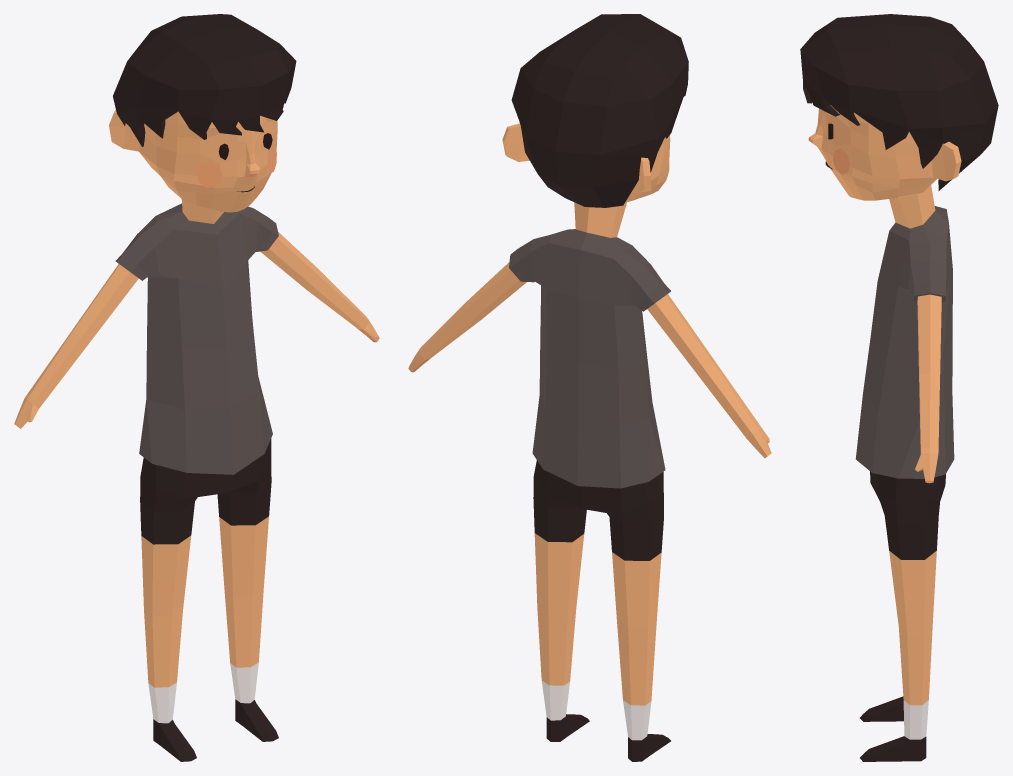
File: low_poly_little_boy.glb
The picture shows the model from 3 angles, left to right: view 1: azimuth 30°, elevation 25°; view 2: azimuth 150°, elevation 25°; view 3: azimuth 270°, elevation 25°; orthographic projection.
Visible parts, largest first — view 1: Cylinder, Cube.001, Circle; view 2: Cylinder, Cube.001; view 3: Cylinder, Cube.001.
Part boxes in pixels (<box>): Cylinder: <box>14,109,379,761</box>; Cube.001: <box>113,14,296,146</box>; Circle: <box>196,147,276,187</box>; Cylinder: <box>408,123,771,761</box>; Cube.001: <box>511,14,688,207</box>; Cylinder: <box>808,105,961,761</box>; Cube.001: <box>800,14,998,190</box>.
Size of the model in its own units: 74.88 by 140 by 35.29.
1 material, 1 textured.
